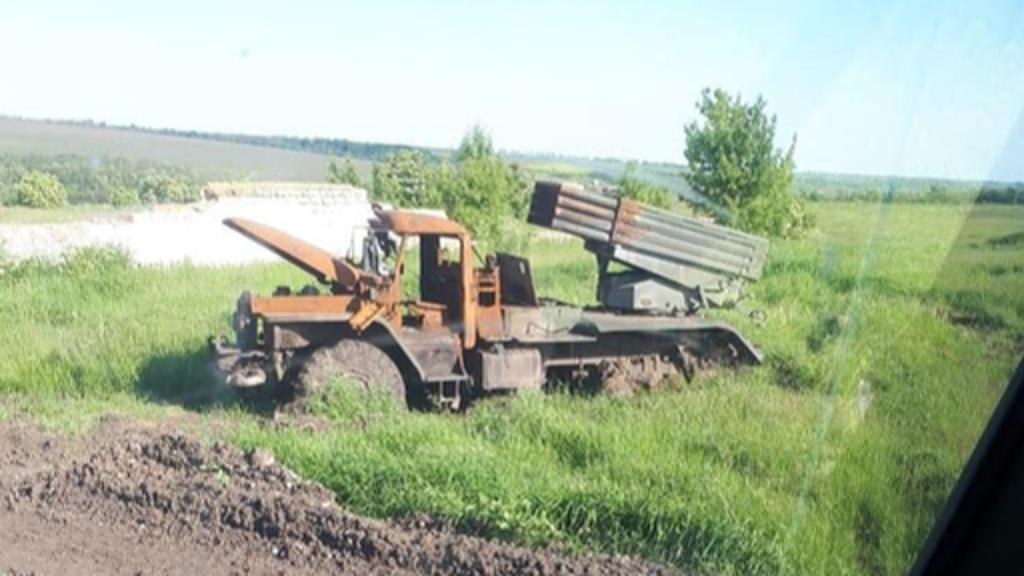MLRS: (206, 176, 770, 424)
